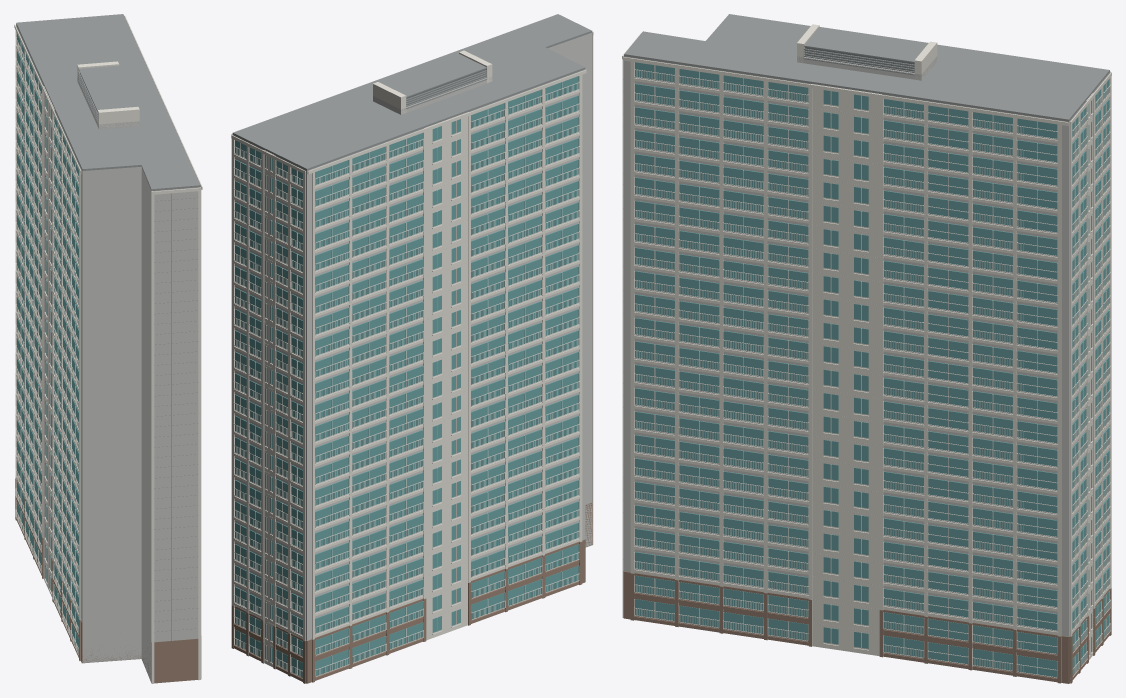
File: bespoke-jamsil-els-138.glb
3 views of the same model, side by side, from view 1: azimuth 30°, elevation 25°; view 2: azimuth 150°, elevation 25°; view 3: azimuth 270°, elevation 25° (orthographic). The views are drawn at different scales.
Visible parts, largest first — view 1: Els138_editable_Els138_light_grey_solid_wall002, Els138_editable_Els138_modest_grey_flat_roof_caps002, Els138_editable_Els138_turquoise_balcony_glazing002, Els138_white_exact_chunk_2, Els138_white_exact_chunk_3, Els138_white_exact_chunk_1, Els138_white_exact_chunk_0, Els138_editable_Shared-wall_clipped_surface_1, Els138_editable_Shared-wall_clipped_surface_0, Els138_white_exact_chunk_6, Els138_editable_Els138_muted_ground_wall002, Els138_white_exact_chunk_5; view 2: Els138_editable_Els138_turquoise_balcony_glazing002, Els138_white_exact_chunk_0, Els138_editable_Els138_light_grey_solid_wall002, Els138_white_exact_chunk_2, Els138_white_exact_chunk_1, Els138_editable_Els138_modest_grey_flat_roof_caps002, Els138_white_exact_chunk_3, Els138_editable_Els138_muted_ground_wall002, Els138_editable_Shared-wall_clipped_surface_0, Els138_editable_Shared-wall_clipped_surface_1, Els138_white_exact_chunk_6; view 3: Els138_editable_Els138_turquoise_balcony_glazing002, Els138_editable_Els138_light_grey_solid_wall002, Els138_white_exact_chunk_3, Els138_white_exact_chunk_5, Els138_white_exact_chunk_6, Els138_white_exact_chunk_4, Els138_editable_Els138_modest_grey_flat_roof_caps002, Els138_white_exact_chunk_0, Els138_editable_Els138_muted_ground_wall002, Els138_editable_Els138_narrow_charcoal_service_strips002.
Boxes of the visible parts, x1=… form: Els138_editable_Els138_light_grey_solid_wall002: x1=16, y1=25, x2=199, y2=681; Els138_editable_Els138_modest_grey_flat_roof_caps002: x1=16, y1=14, x2=200, y2=642; Els138_editable_Els138_turquoise_balcony_glazing002: x1=17, y1=33, x2=78, y2=652; Els138_white_exact_chunk_2: x1=15, y1=27, x2=70, y2=635; Els138_white_exact_chunk_3: x1=52, y1=109, x2=200, y2=680; Els138_white_exact_chunk_1: x1=15, y1=32, x2=51, y2=594; Els138_white_exact_chunk_0: x1=16, y1=24, x2=54, y2=597; Els138_editable_Shared-wall_clipped_surface_1: x1=14, y1=24, x2=154, y2=683; Els138_editable_Shared-wall_clipped_surface_0: x1=17, y1=480, x2=198, y2=683; Els138_white_exact_chunk_6: x1=77, y1=15, x2=202, y2=189; Els138_editable_Els138_muted_ground_wall002: x1=15, y1=478, x2=201, y2=678; Els138_white_exact_chunk_5: x1=169, y1=114, x2=201, y2=635; Els138_editable_Els138_turquoise_balcony_glazing002: x1=235, y1=76, x2=578, y2=677; Els138_white_exact_chunk_0: x1=231, y1=112, x2=468, y2=677; Els138_editable_Els138_light_grey_solid_wall002: x1=233, y1=33, x2=592, y2=645; Els138_white_exact_chunk_2: x1=312, y1=103, x2=542, y2=668; Els138_white_exact_chunk_1: x1=315, y1=120, x2=461, y2=676; Els138_editable_Els138_modest_grey_flat_roof_caps002: x1=232, y1=14, x2=592, y2=170; Els138_white_exact_chunk_3: x1=468, y1=31, x2=593, y2=598; Els138_editable_Els138_muted_ground_wall002: x1=231, y1=541, x2=582, y2=683; Els138_editable_Shared-wall_clipped_surface_0: x1=307, y1=502, x2=592, y2=683; Els138_editable_Shared-wall_clipped_surface_1: x1=307, y1=32, x2=593, y2=544; Els138_white_exact_chunk_6: x1=231, y1=50, x2=492, y2=134; Els138_editable_Els138_turquoise_balcony_glazing002: x1=635, y1=62, x2=1109, y2=677; Els138_editable_Els138_light_grey_solid_wall002: x1=624, y1=56, x2=1109, y2=636; Els138_white_exact_chunk_3: x1=622, y1=33, x2=881, y2=655; Els138_white_exact_chunk_5: x1=630, y1=58, x2=1013, y2=671; Els138_white_exact_chunk_6: x1=623, y1=24, x2=1068, y2=682; Els138_white_exact_chunk_4: x1=678, y1=69, x2=808, y2=641; Els138_editable_Els138_modest_grey_flat_roof_caps002: x1=624, y1=14, x2=1109, y2=121; Els138_white_exact_chunk_0: x1=1070, y1=72, x2=1111, y2=683; Els138_editable_Els138_muted_ground_wall002: x1=624, y1=571, x2=1111, y2=683; Els138_editable_Els138_narrow_charcoal_service_strips002: x1=804, y1=47, x2=914, y2=71.
Size of the model in its own units: 26.92 by 68.2 by 51.9.
